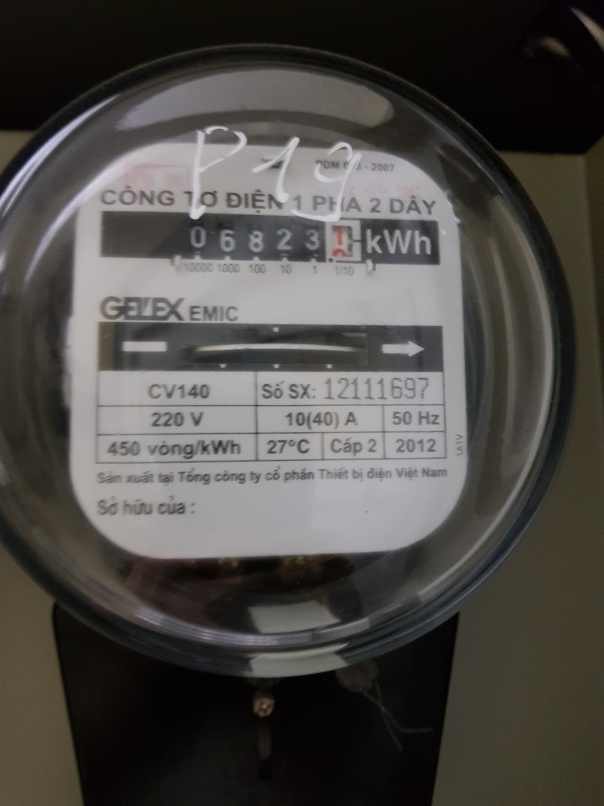counter: (97, 212, 445, 261)
electricity_meter: (1, 39, 573, 671)
